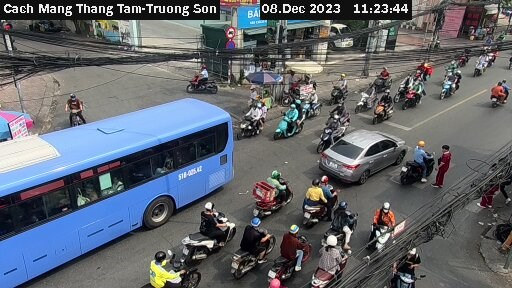bus: (1, 95, 232, 286)
car: (318, 129, 406, 191)
motorbike: (250, 221, 311, 282), (181, 204, 236, 259), (226, 218, 273, 275), (134, 245, 196, 288), (316, 202, 362, 250), (360, 206, 400, 259), (308, 233, 347, 287), (293, 175, 338, 220), (246, 172, 291, 212), (400, 141, 439, 183), (384, 247, 421, 288), (277, 103, 317, 140), (56, 91, 99, 123), (238, 102, 271, 139), (322, 104, 359, 129), (436, 70, 463, 104), (187, 66, 222, 92), (401, 83, 429, 114), (488, 78, 512, 113), (312, 118, 347, 142), (368, 95, 399, 121), (325, 75, 354, 101), (469, 51, 492, 80), (367, 69, 395, 90), (303, 91, 328, 114), (392, 76, 416, 97), (355, 86, 377, 108)
